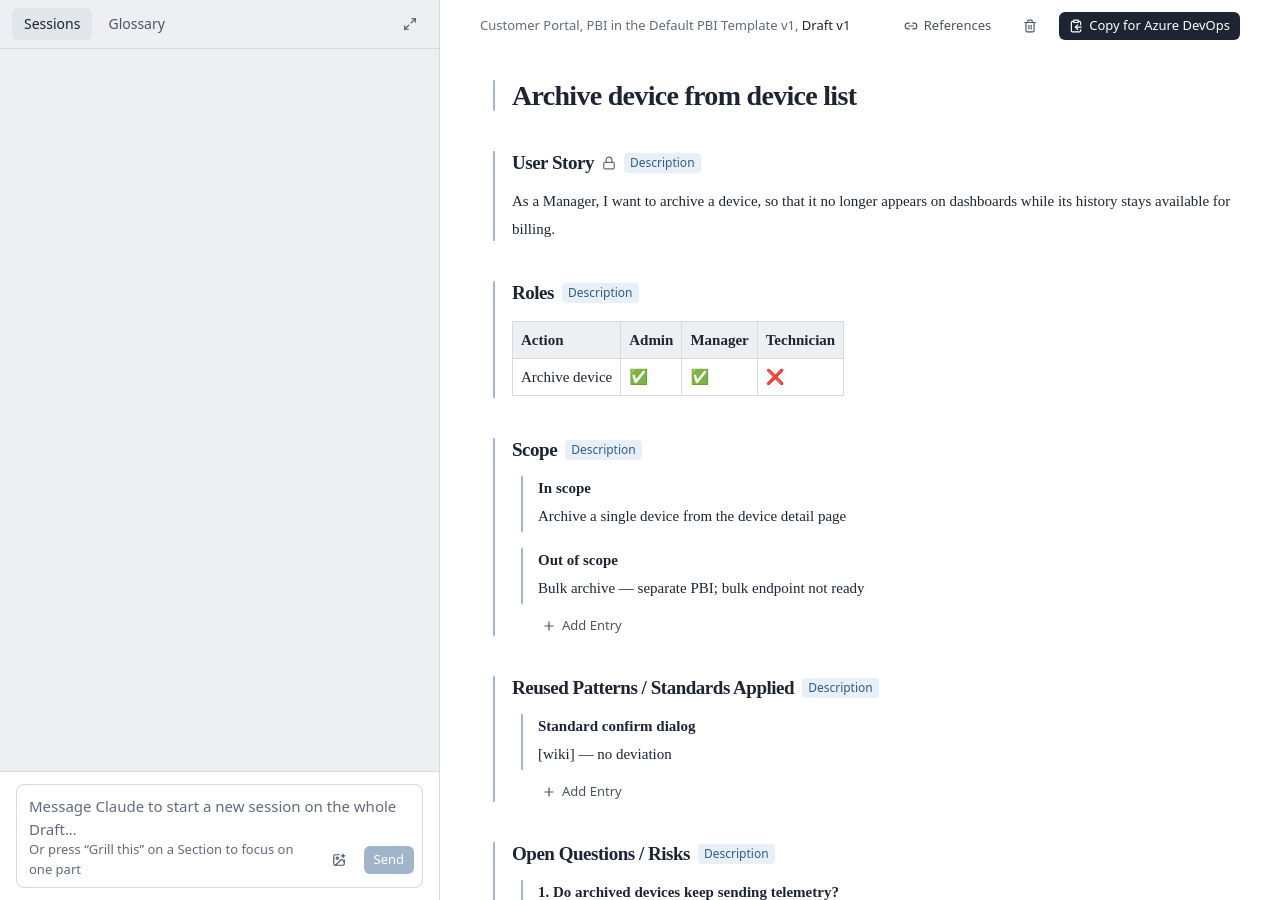
Test case: DraftPage from v1 › edits a prose Section in place
Click the button "As a Manager" at (871, 201), box [504,185,1248,245]
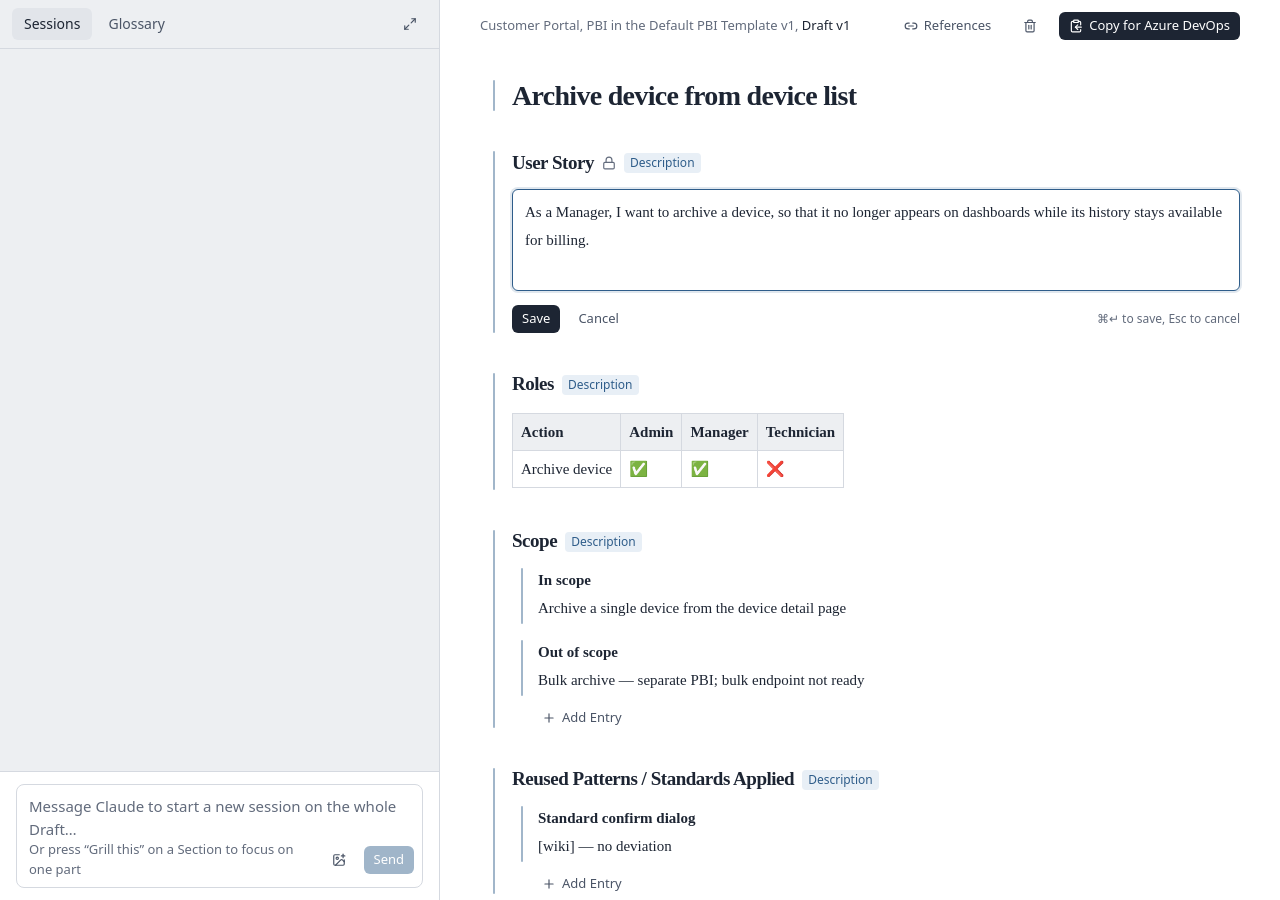
Replace the text in the text box named "Text" with "As a Manager, I archive devices." at (876, 240), box [512,189,1240,291]
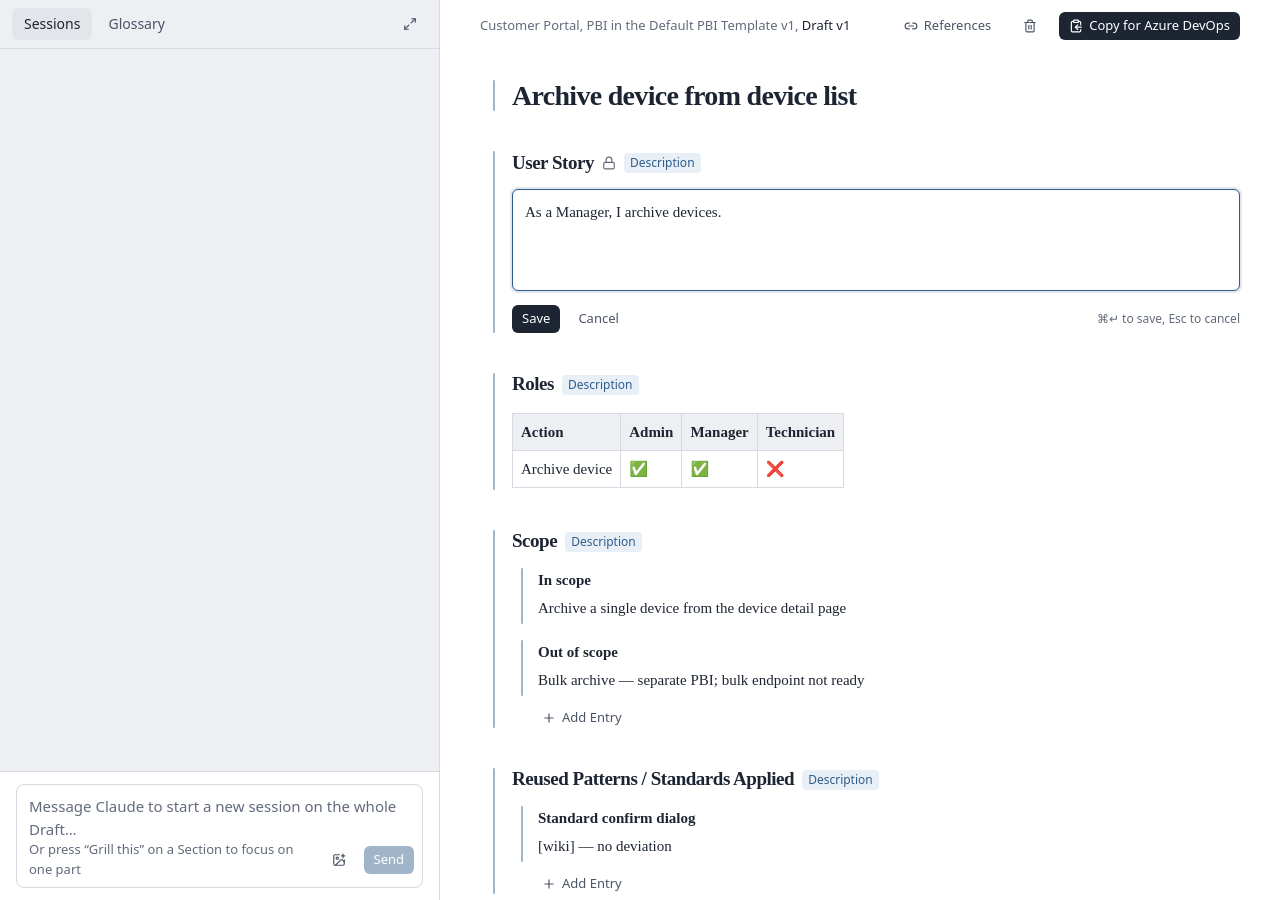
Click the button "Save" at (536, 318), box [512,304,560,332]
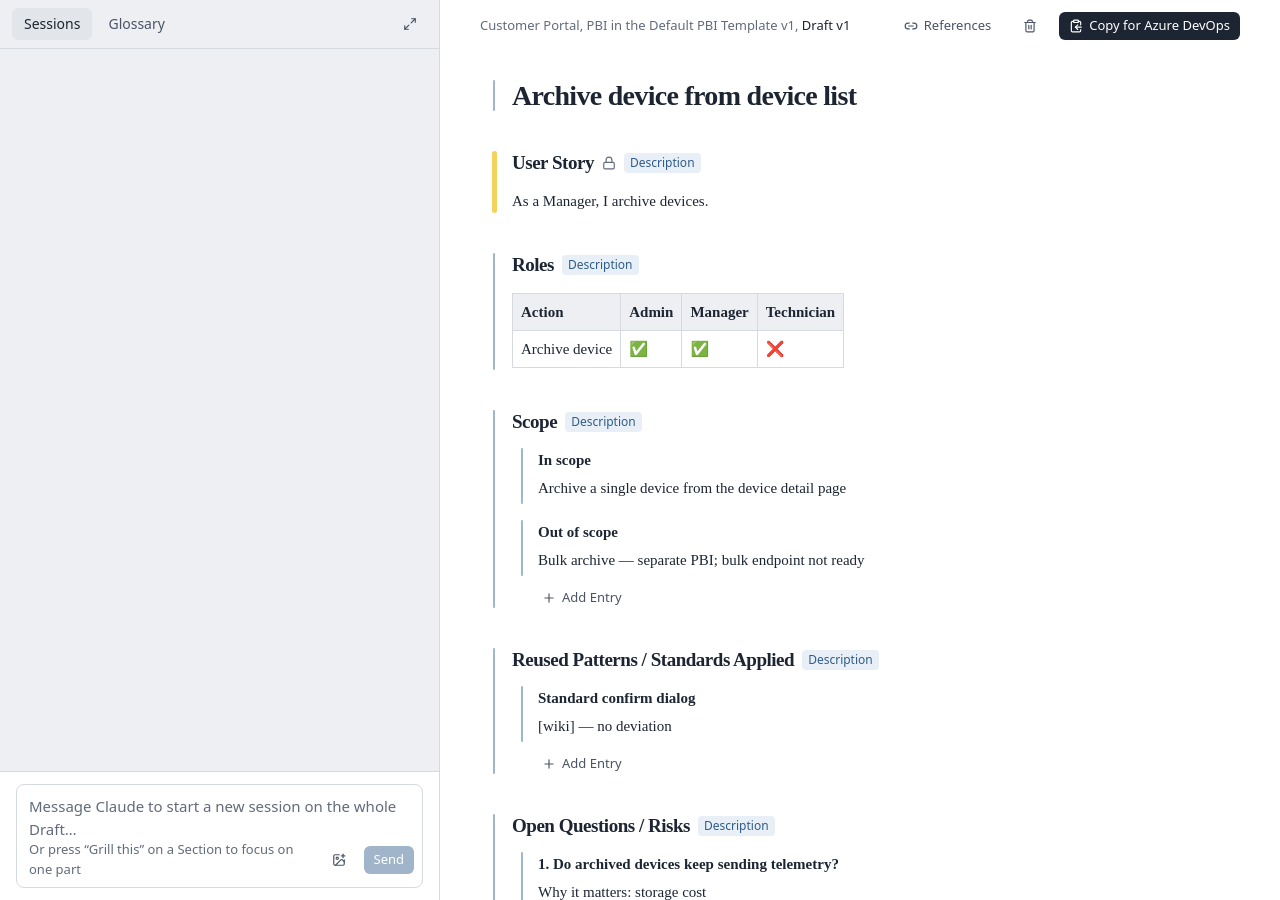
expect the text "As a Manager, I archive devices." is shown: met, box [512,193,708,209]
